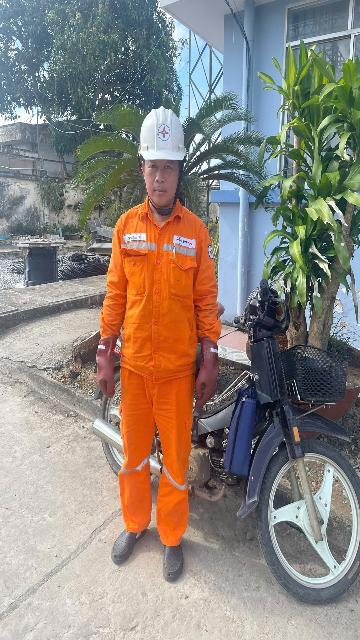gloves: (81, 330, 132, 402), (189, 330, 232, 410)
helmet: (130, 106, 196, 171)
shoes: (84, 498, 143, 576), (152, 528, 197, 583)
